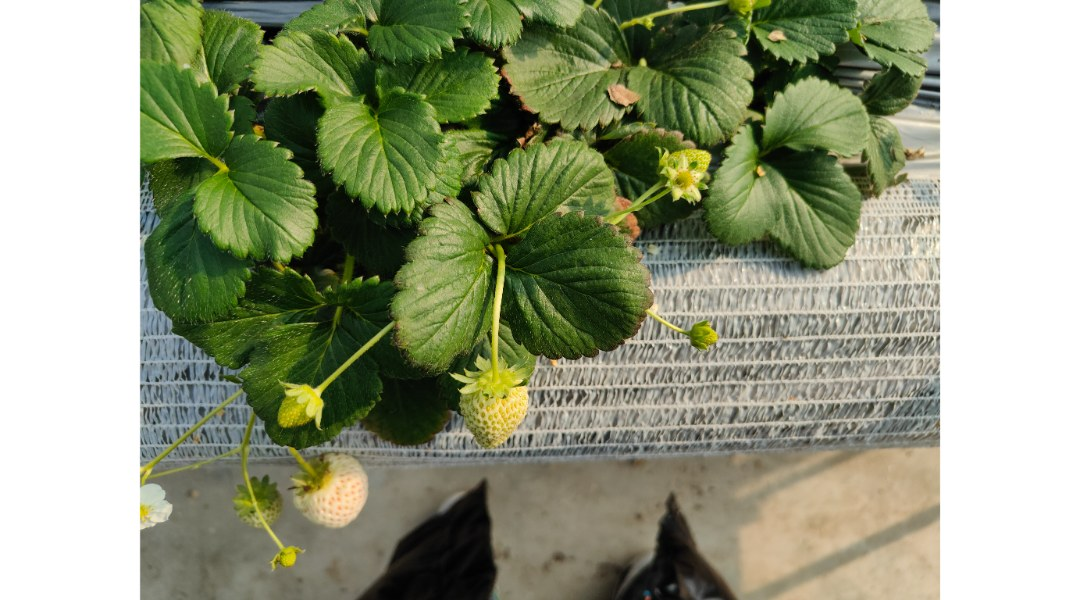berry: (454, 342, 542, 460), (293, 434, 371, 540), (652, 126, 721, 211), (259, 377, 329, 436), (227, 479, 286, 535), (683, 311, 729, 360), (275, 535, 297, 572)
flower: (128, 455, 180, 535)
strain: (145, 380, 227, 468), (319, 309, 398, 393), (485, 224, 508, 392), (149, 453, 236, 491), (243, 462, 280, 545), (647, 303, 670, 339)
